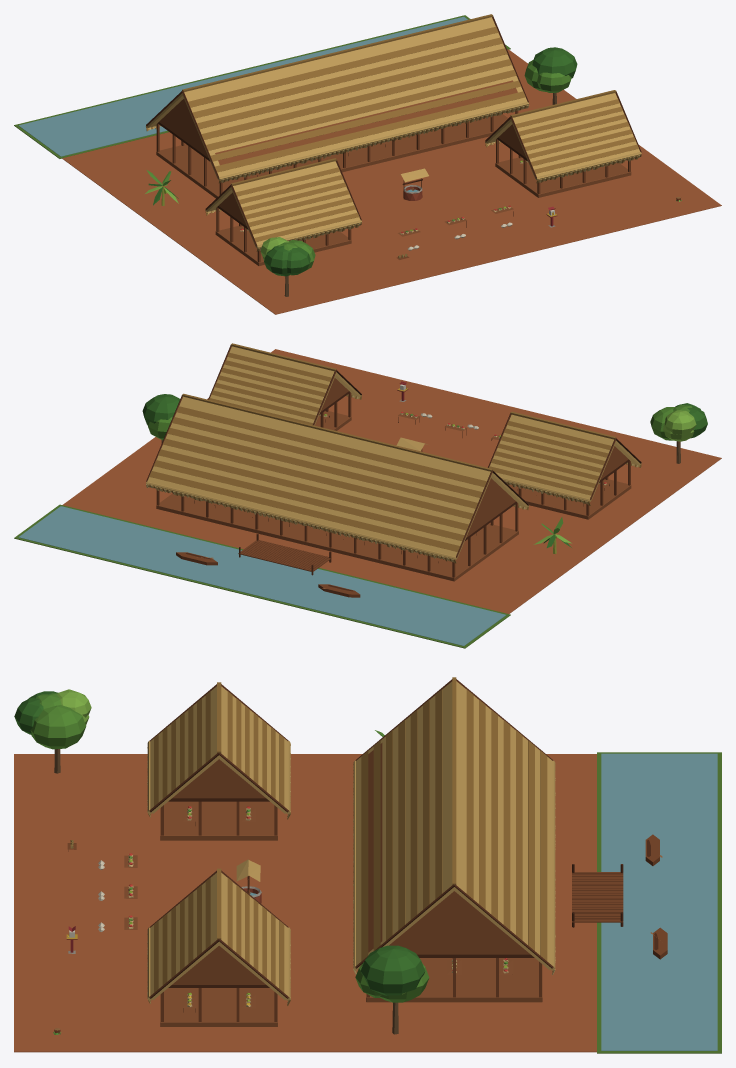
The model's file is market.glb.
3 renders of one model, top to bottom at view 1: azimuth 30°, elevation 25°; view 2: azimuth 150°, elevation 25°; view 3: azimuth 270°, elevation 25°, orthographic. The views are drawn at different scales.
Parts seen in each view (by area): view 1: body; view 2: body; view 3: body.
Boxes of the visible parts, box(x1,y1,x2,y2) form: body: box(14, 14, 721, 314); body: box(14, 343, 721, 648); body: box(14, 677, 721, 1053).
Size of the model in its own units: 48.4 by 9.53 by 48.15.
